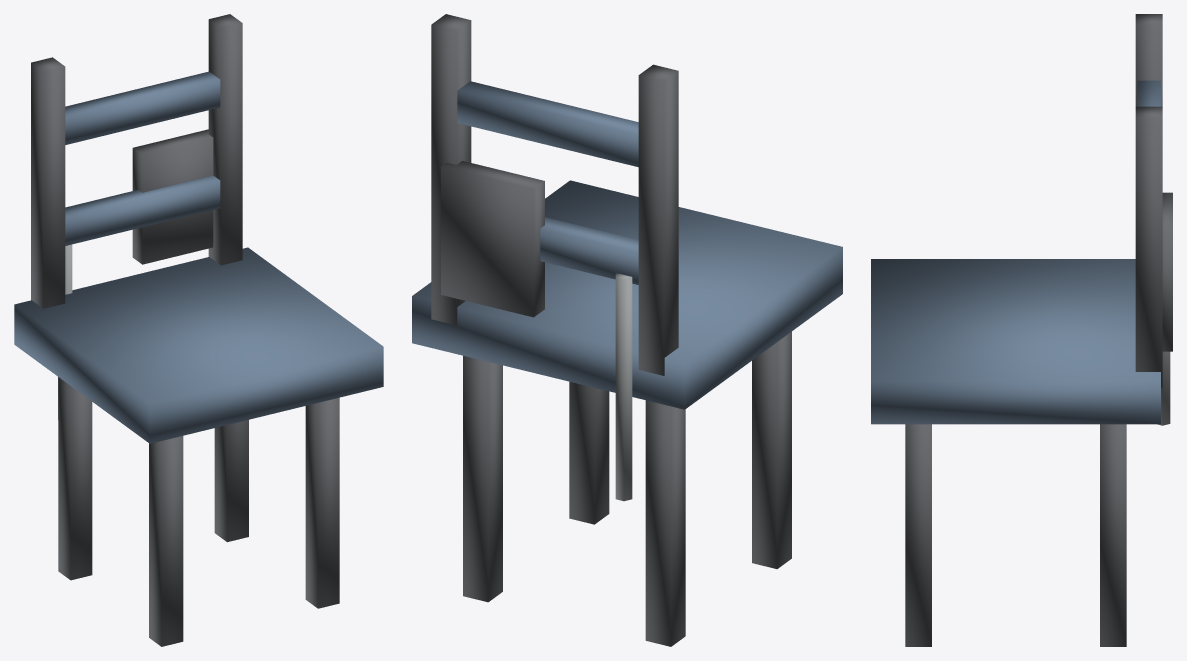
Rendered from armchair__service.glb.
The picture shows the model from 3 angles, left to right: view 1: azimuth 30°, elevation 25°; view 2: azimuth 150°, elevation 25°; view 3: azimuth 270°, elevation 25°; orthographic projection. The views are drawn at different scales.
Parts seen in each view (by area): view 1: world; view 2: world; view 3: world.
Part boxes in pixels (x1,y1,x2,y2): world: [14, 14, 383, 646]; world: [412, 14, 842, 646]; world: [871, 14, 1172, 646].
Bounding box in the file's own units: 0.4846 × 0.9892 × 0.5066.
